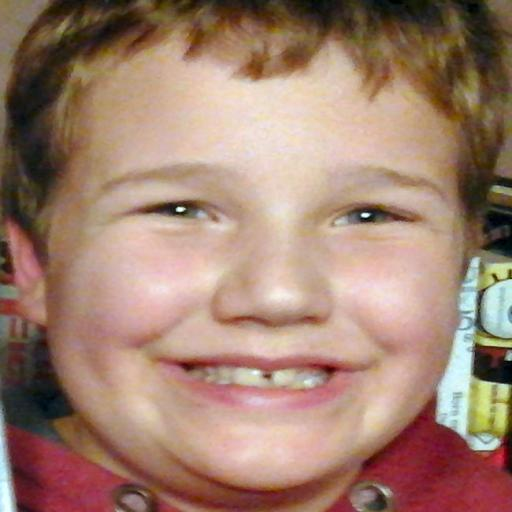Autism: (9, 9, 512, 473)
